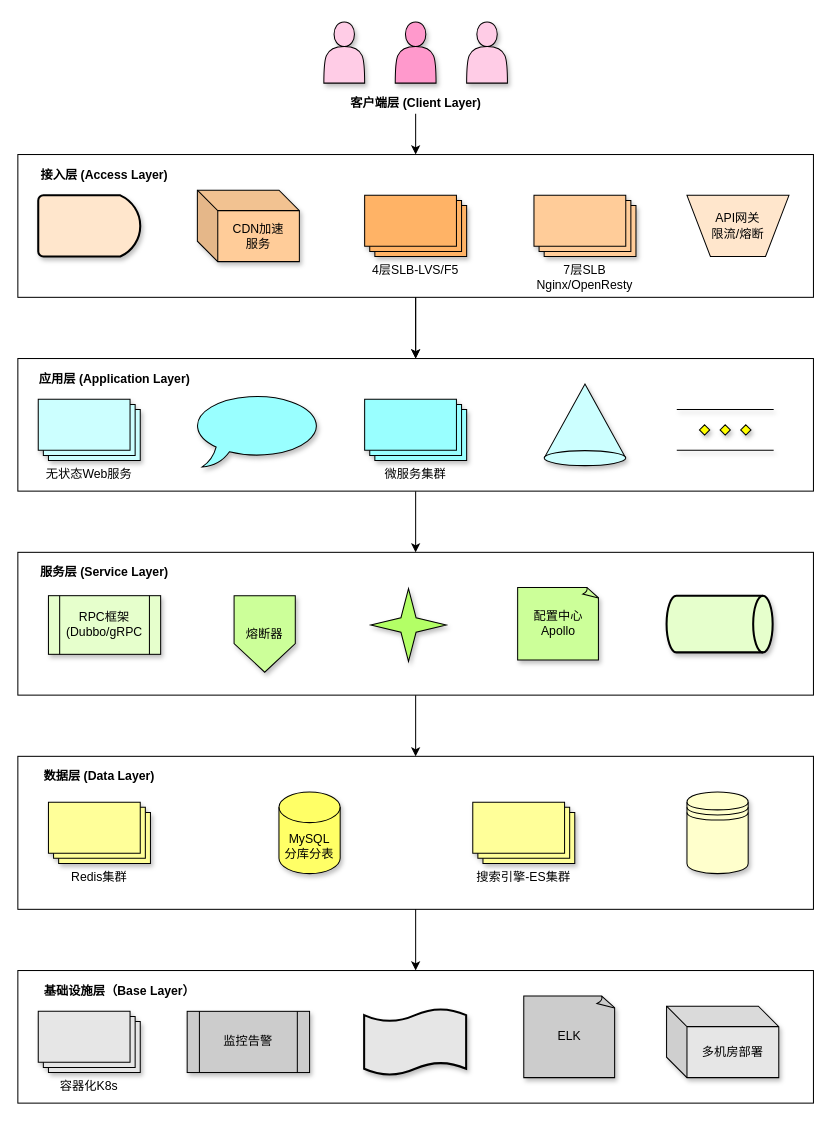
This 831x1121 diagram has some shape labels left out. Each missing label, with the centre of its shape:
"CI/CD流水线" belongs at (416,1043).
"DNS 负载均衡" belongs at (90,227).
"Kafka 消息队列" belongs at (720,625).
"分布式 文件存储" belongs at (718,834).
"分布式Session" belongs at (258,431).
"异步任务队列" belongs at (726,430).
"服务注册-Zookeeper" belongs at (409,626).
"本地缓存" belongs at (585,426).
